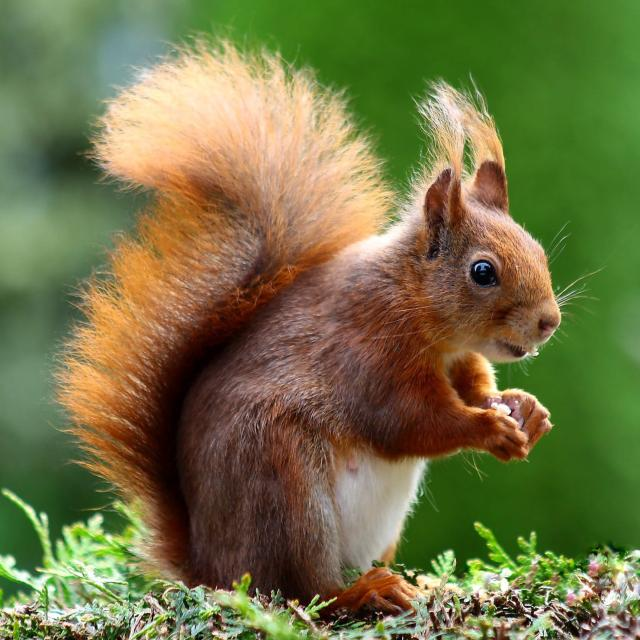Squirrel: (56, 44, 551, 614)
